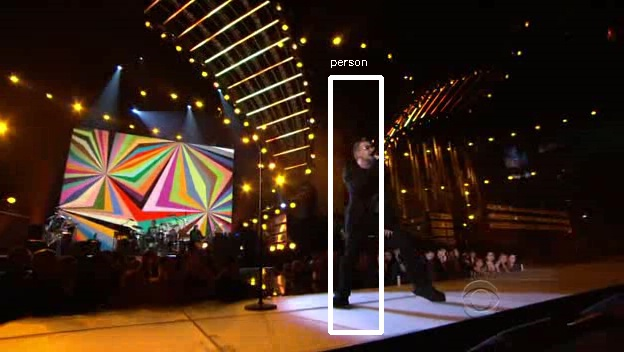person: (343, 141, 409, 247), (340, 141, 406, 247), (346, 141, 412, 247), (343, 138, 409, 244), (343, 144, 409, 250)
target_negative: (175, 57, 614, 118), (474, 105, 557, 206), (160, 320, 329, 350), (44, 220, 581, 225), (480, 142, 566, 149), (323, 316, 353, 331)
